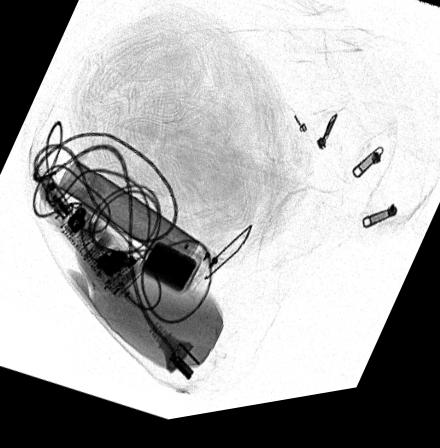Powerbank: (136, 241, 202, 302)
